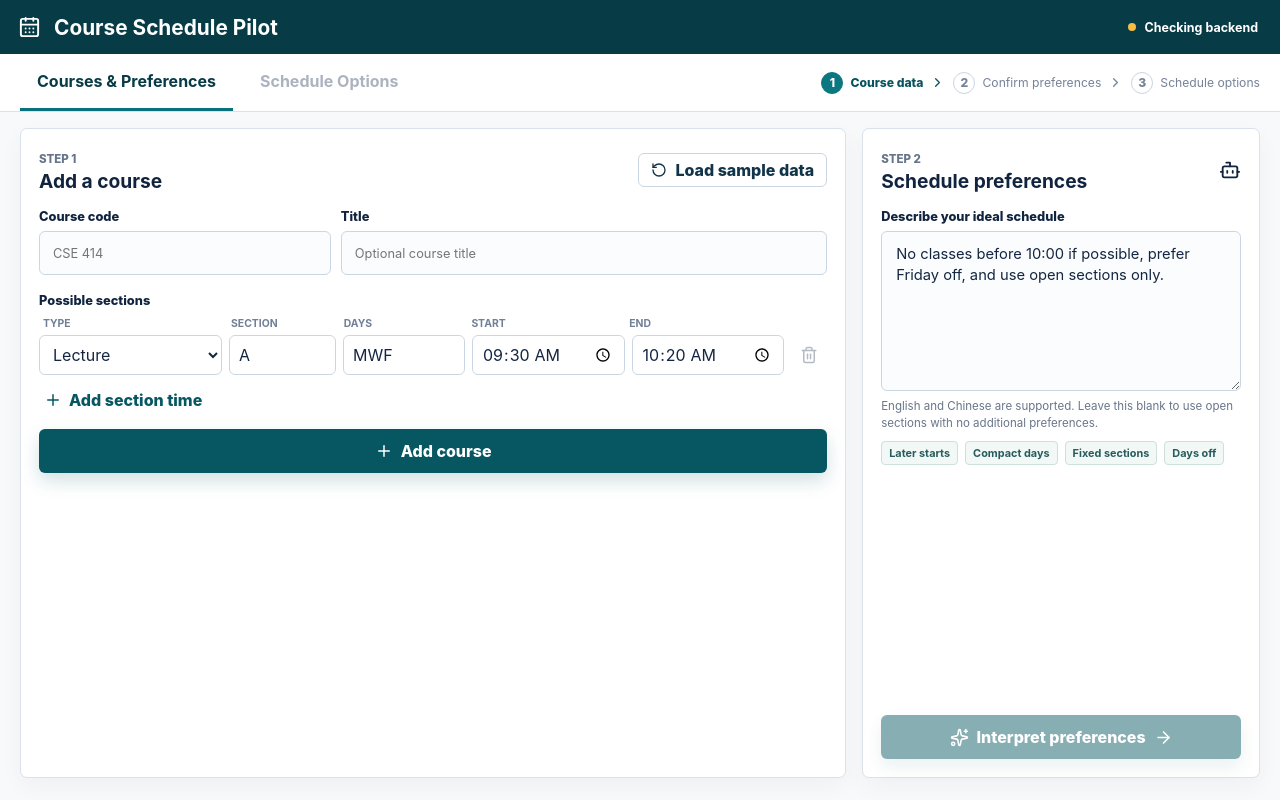
Test: App › shows a specific backend-unavailable message
Click the button "Load sample data".
click(733, 170)  # box x1=638 y1=153 x2=827 y2=187
(page scrolled)
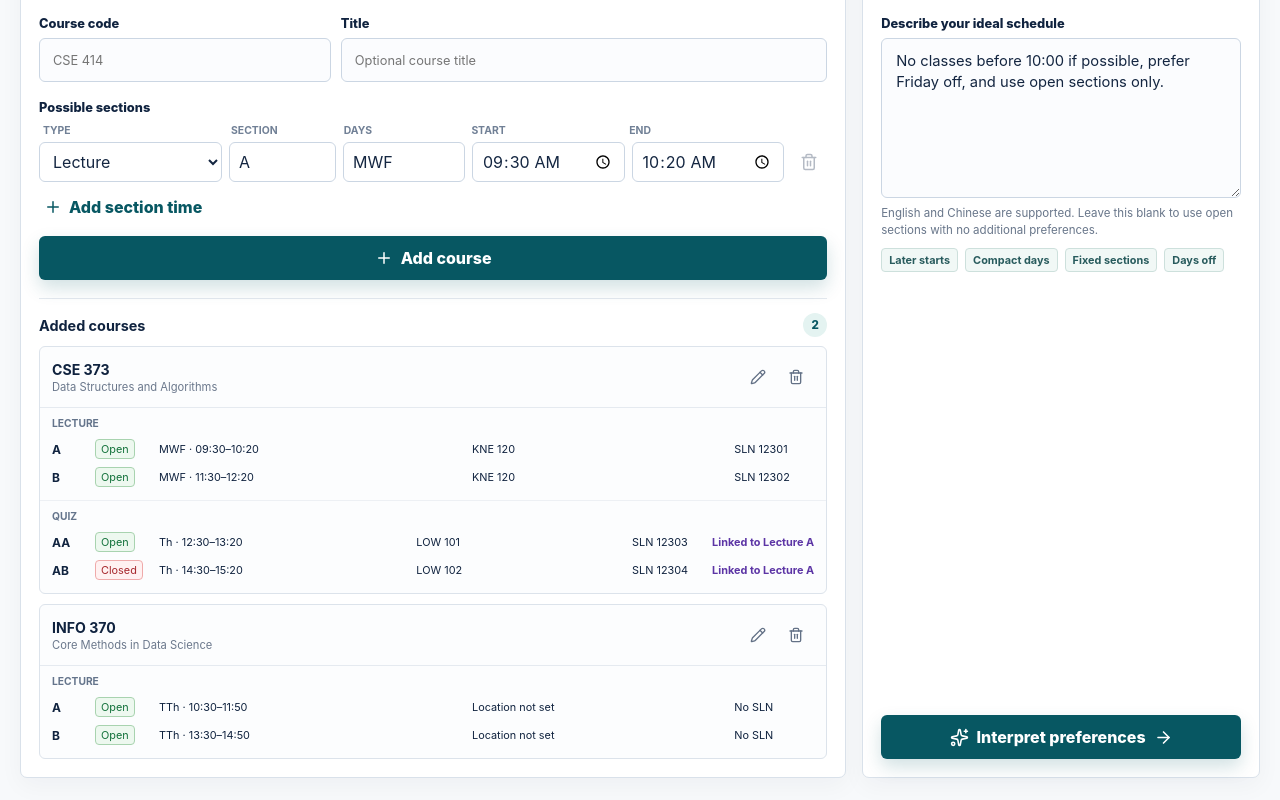
Click the button "Interpret preferences".
click(1061, 737)  # box x1=881 y1=715 x2=1241 y2=759
(page scrolled)
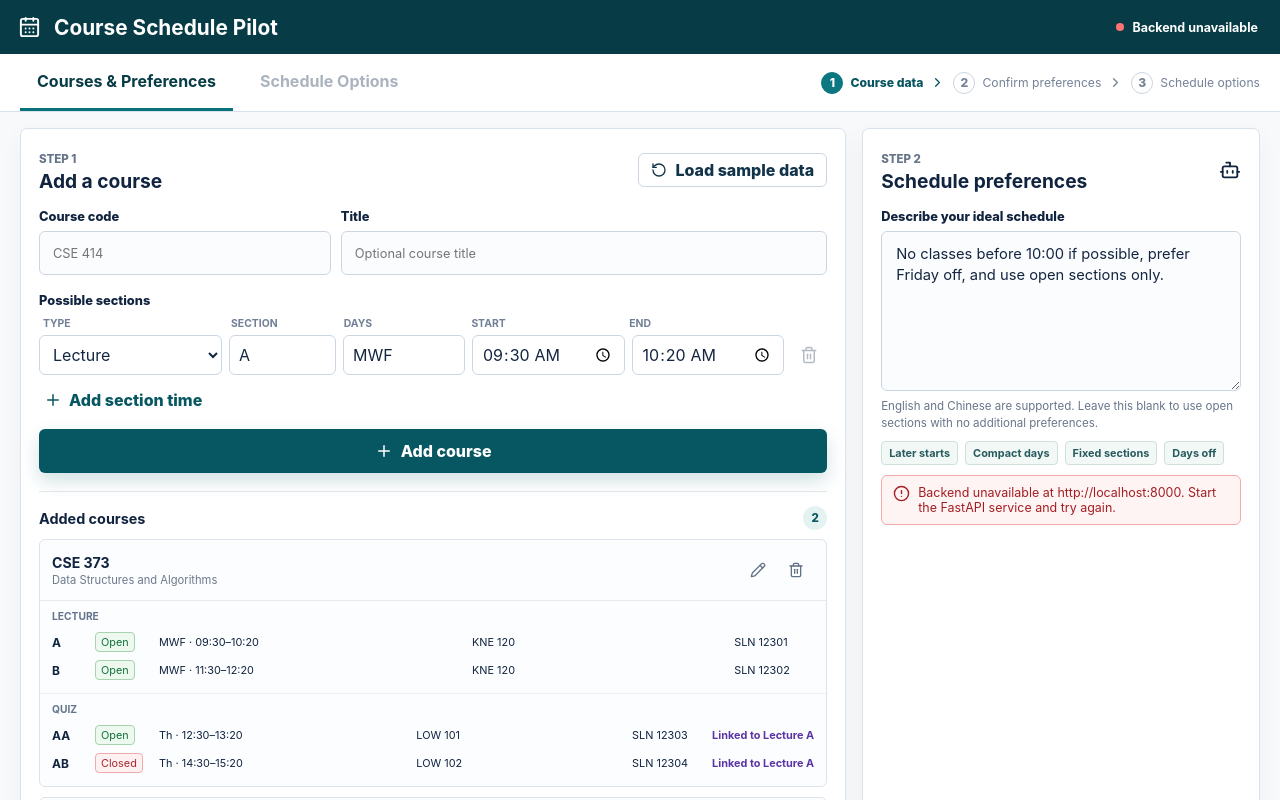
Result: the 2nd message shows "Backend unavailable at" at x1=918 y1=485 x2=1216 y2=515
Result: the message "Backend unavailable" is shown at x1=1116 y1=20 x2=1258 y2=34
